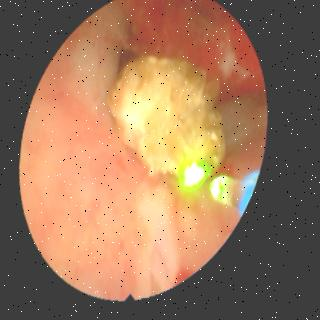fiber: (245, 176, 262, 217)
laser: (184, 157, 213, 194), (215, 182, 233, 205)
stone: (113, 60, 226, 197)
tissue: (33, 0, 263, 300)
